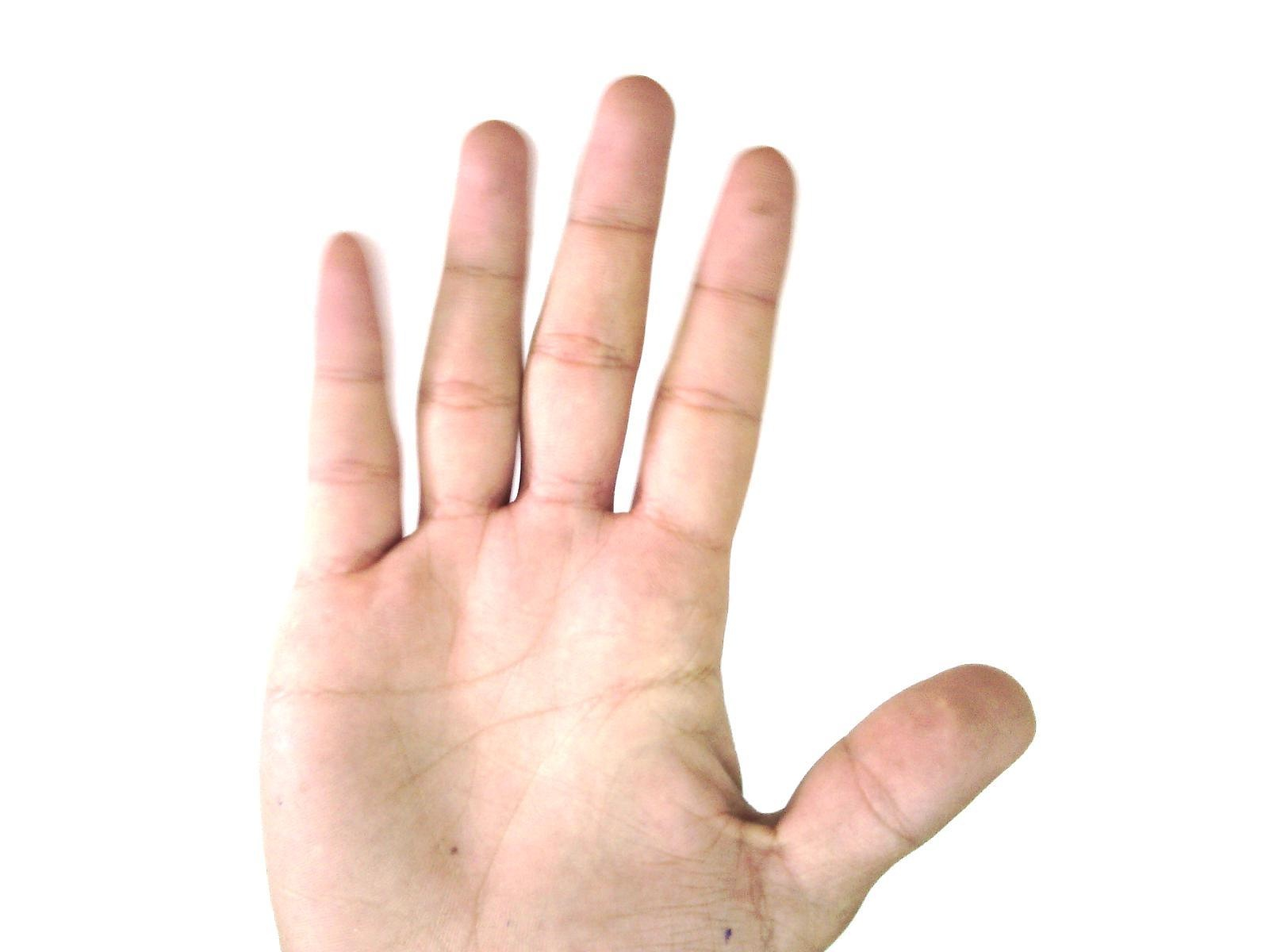open_palm: (255, 74, 1040, 951)
